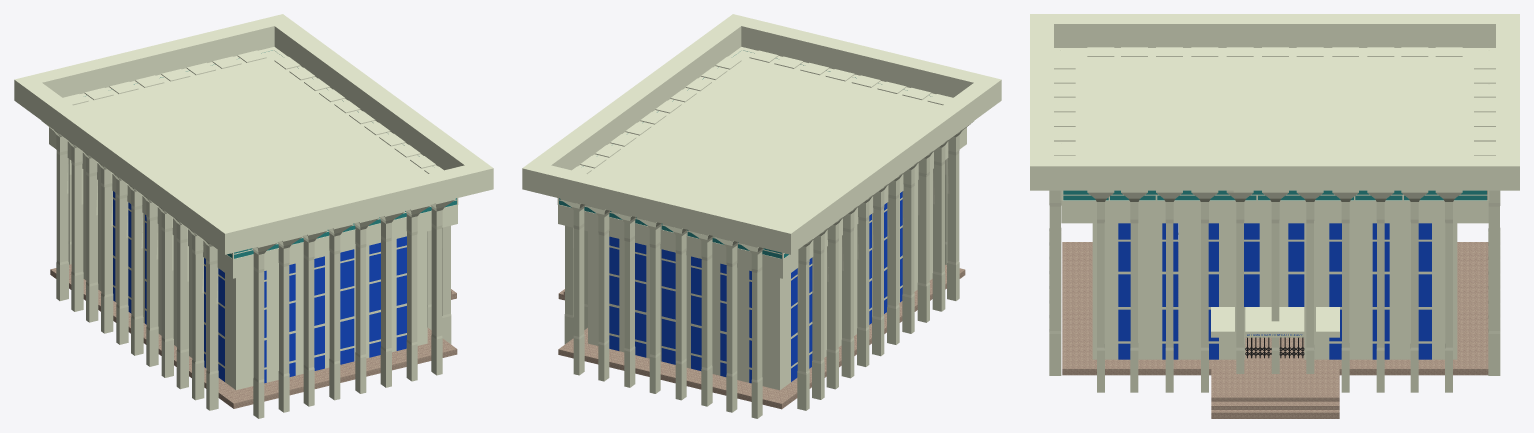
3 views of the same model, side by side, from view 1: azimuth 30°, elevation 25°; view 2: azimuth 150°, elevation 25°; view 3: azimuth 270°, elevation 25° (orthographic). The views are drawn at different scales.
Parts seen in each view (by area): view 1: building, blue glass, main floor, green glass; view 2: building, blue glass, main floor, green glass; view 3: building, main floor, blue glass, green glass, gate.
Part boxes in pixels (x1,y1,x2,y2): building: (14, 14, 493, 418); blue glass: (113, 191, 406, 383); main floor: (50, 264, 457, 408); green glass: (85, 50, 456, 258); building: (522, 14, 1001, 418); blue glass: (609, 191, 902, 383); main floor: (558, 264, 965, 409); green glass: (559, 50, 930, 258); building: (1030, 14, 1519, 392); main floor: (1062, 242, 1488, 418); blue glass: (1118, 223, 1431, 359); green glass: (1063, 190, 1486, 200); gate: (1245, 337, 1304, 358).
Size of what is drawn, in the model's own units: 21.98 by 13.65 by 25.89.
Materials: 7 (1 with a texture image).
